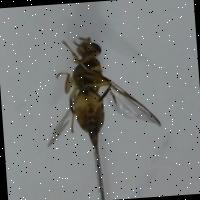Oriental-fruit-fly: (28, 22, 175, 159)
